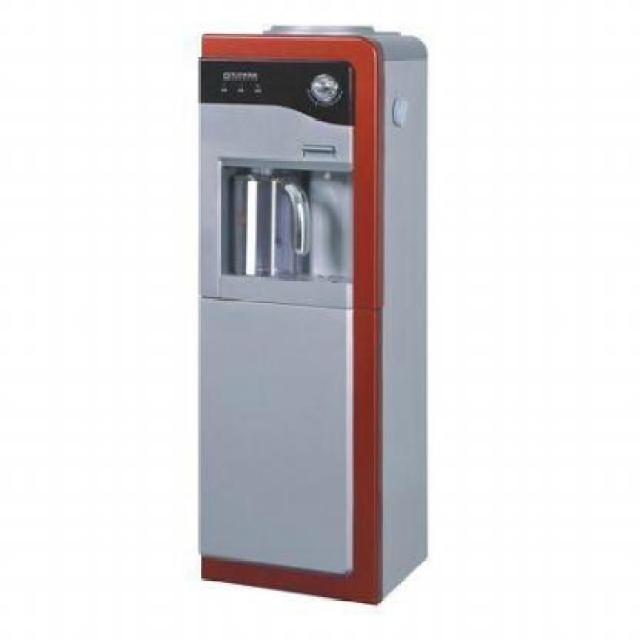cooler: (194, 21, 431, 607)
